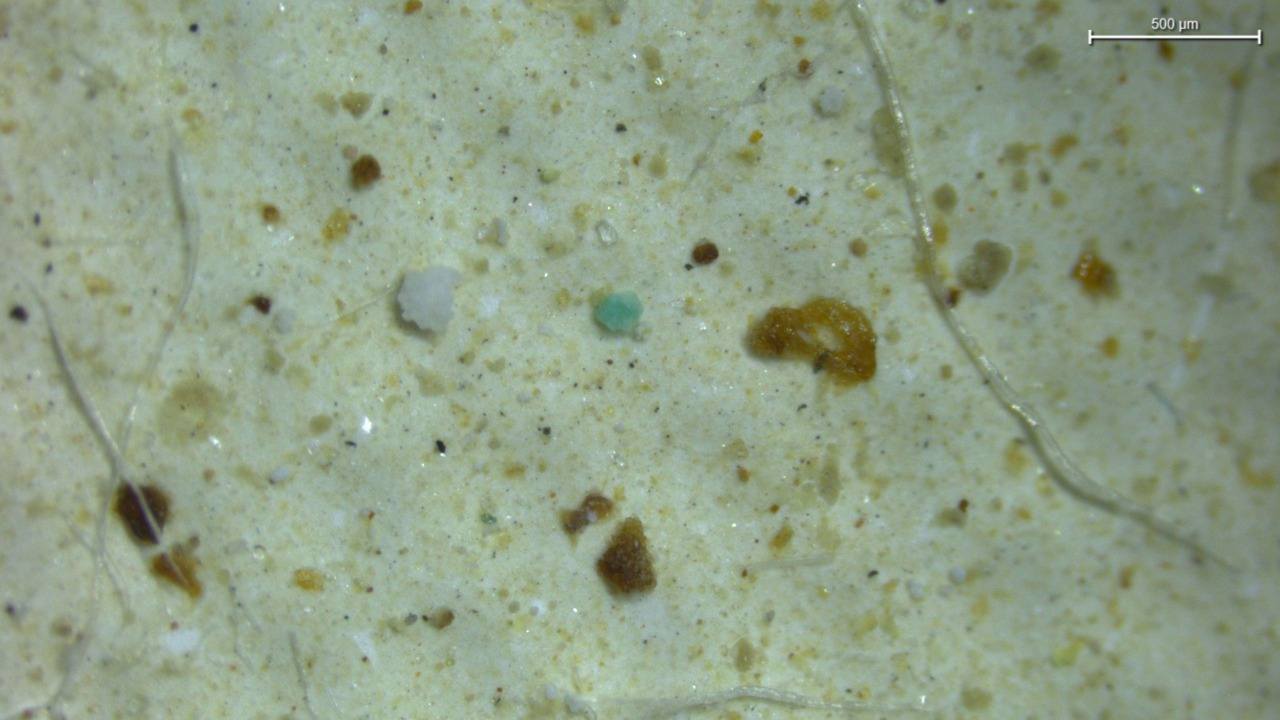microplastic_fragment: (396, 266, 460, 333), (594, 292, 643, 333), (812, 86, 846, 118)
